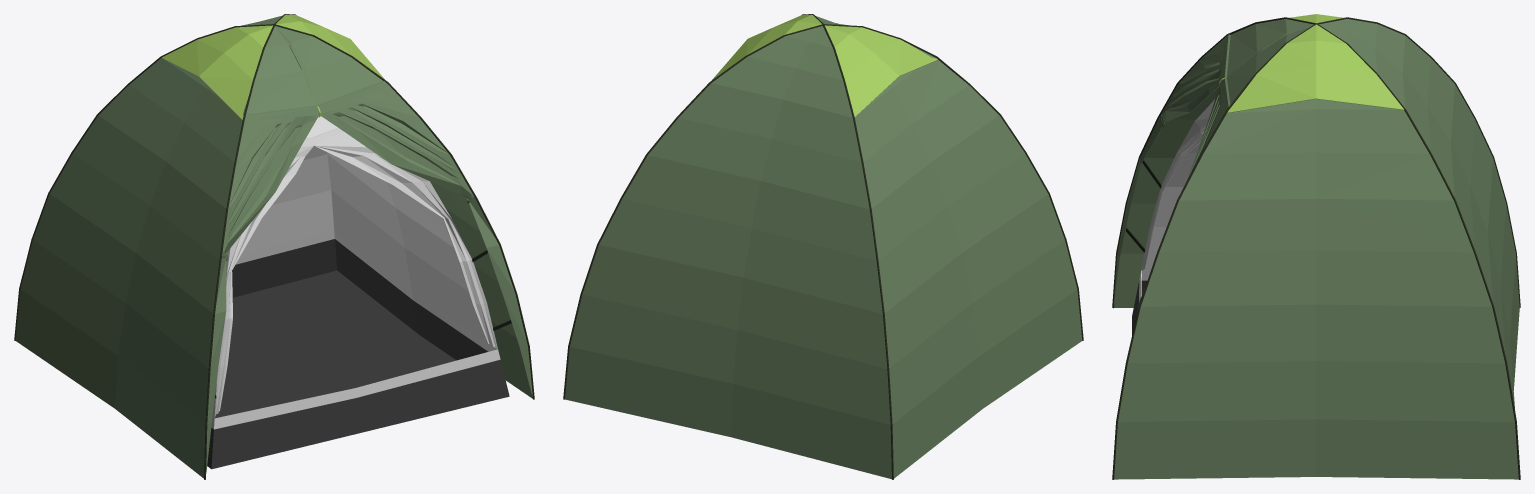
File: sh-scopia-camping-tent.glb
The picture shows the model from 3 angles, left to right: view 1: azimuth 30°, elevation 25°; view 2: azimuth 150°, elevation 25°; view 3: azimuth 270°, elevation 25°; orthographic projection. The views are drawn at different scales.
Parts seen in each view (by area): view 1: extTent_Cube, intTent_Cube.001, ties_Cube.003, sticks_Cube.001; view 2: extTent_Cube, ties_Cube.003, sticks_Cube.001; view 3: extTent_Cube, ties_Cube.003, sticks_Cube.001, intTent_Cube.001.
Part boxes in pixels (x1,y1,x2,y2): extTent_Cube: (15, 15, 532, 478); intTent_Cube.001: (207, 116, 509, 469); ties_Cube.003: (162, 14, 473, 260); sticks_Cube.001: (14, 14, 534, 479); extTent_Cube: (565, 16, 1082, 479); ties_Cube.003: (711, 14, 937, 116); sticks_Cube.001: (563, 14, 1083, 479); extTent_Cube: (1113, 19, 1519, 479); ties_Cube.003: (1159, 14, 1404, 127); sticks_Cube.001: (1112, 17, 1520, 479); intTent_Cube.001: (1132, 99, 1215, 335).
Size of the model in its own units: 1 by 1 by 1.
